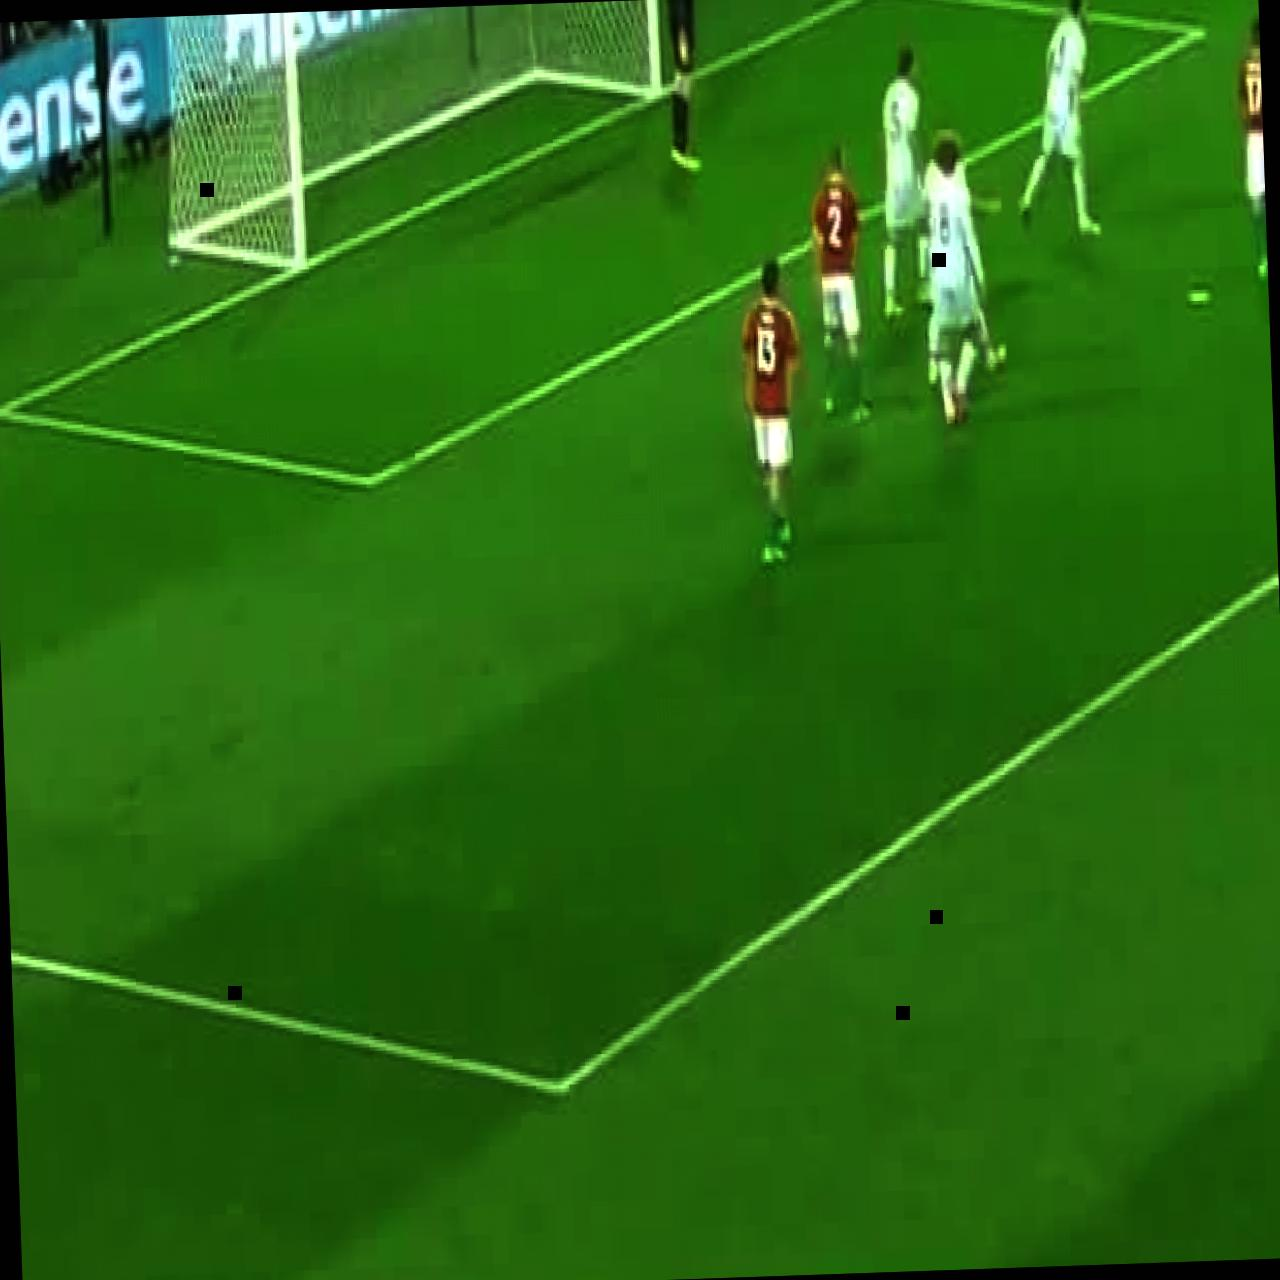football: (736, 255, 808, 570), (1012, 0, 1101, 237), (919, 148, 1006, 384), (928, 128, 987, 426), (809, 144, 870, 427), (874, 42, 928, 318), (1232, 14, 1268, 280), (663, 0, 702, 175)
